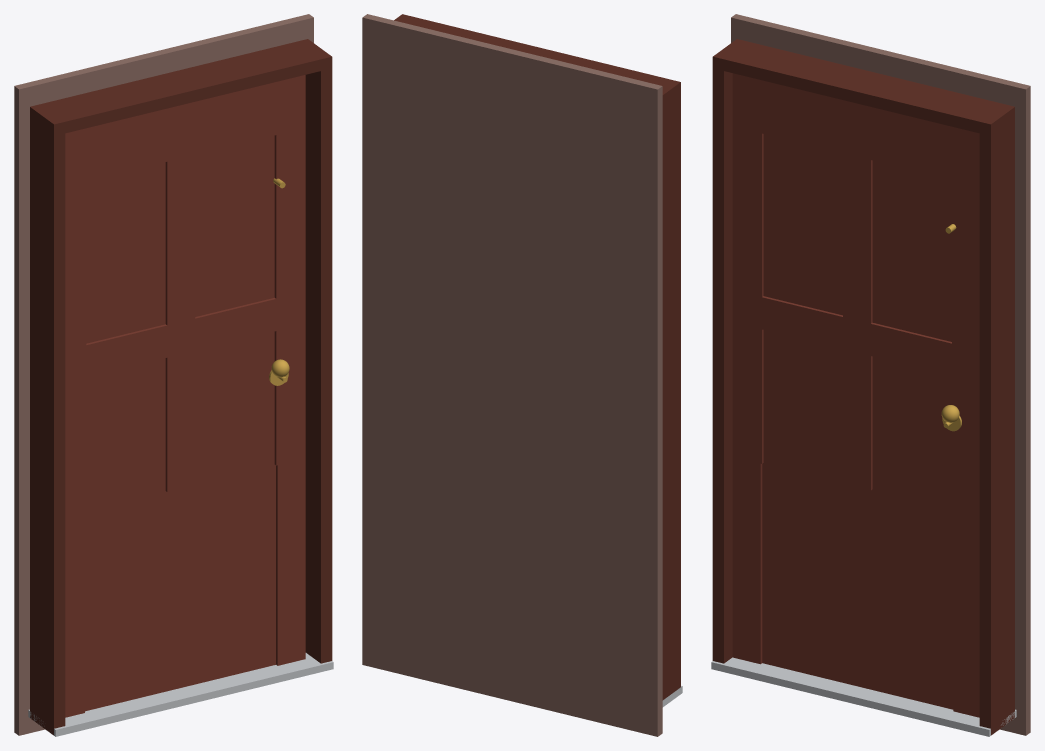
File: apartment_door.glb
The picture shows the model from 3 angles, left to right: view 1: azimuth 30°, elevation 25°; view 2: azimuth 150°, elevation 25°; view 3: azimuth 330°, elevation 25°; orthographic projection.
Visible parts, largest first — view 1: leaf_slab, jamb_left, wall_band, jamb_left.001, head, threshold; view 2: wall_band, jamb_left, head; view 3: leaf_slab, jamb_left.001, wall_band, jamb_left, head, threshold.
Boxes of the visible parts, x1=… form: leaf_slab: x1=65, y1=75, x2=305, y2=717; jamb_left: x1=30, y1=104, x2=65, y2=735; wall_band: x1=14, y1=14, x2=313, y2=735; jamb_left.001: x1=299, y1=39, x2=332, y2=663; head: x1=30, y1=39, x2=331, y2=135; threshold: x1=28, y1=653, x2=333, y2=736; wall_band: x1=362, y1=14, x2=662, y2=736; jamb_left: x1=662, y1=79, x2=680, y2=700; head: x1=394, y1=14, x2=680, y2=106; leaf_slab: x1=732, y1=73, x2=979, y2=717; jamb_left.001: x1=979, y1=105, x2=1014, y2=735; wall_band: x1=731, y1=14, x2=1030, y2=735; jamb_left: x1=712, y1=39, x2=743, y2=663; head: x1=712, y1=39, x2=1014, y2=135; threshold: x1=711, y1=657, x2=1016, y2=736.
Size of the model in its own units: 1.06 by 2.21 by 0.205.
